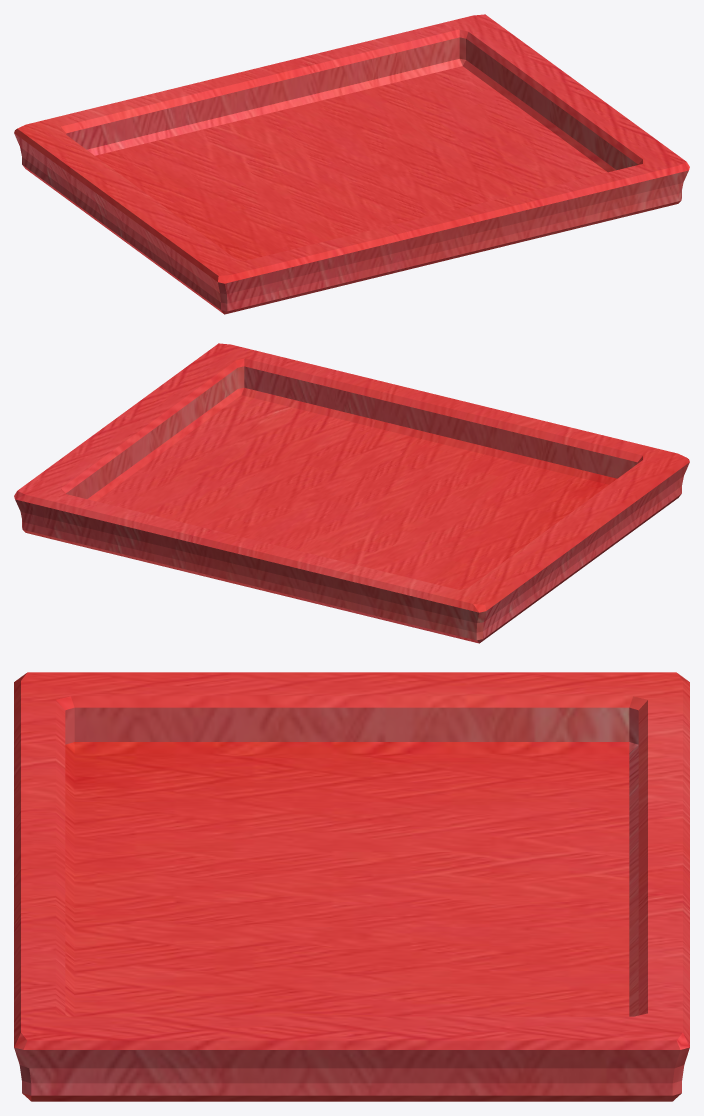
File: Tray.fbx
The picture shows the model from 3 angles, top to bottom: view 1: azimuth 30°, elevation 25°; view 2: azimuth 150°, elevation 25°; view 3: azimuth 270°, elevation 25°; orthographic projection. The views are drawn at different scales.
Parts seen in each view (by area): view 1: Tray; view 2: Tray; view 3: Tray.
Boxes of the visible parts, x1,y1,x2,y2 form: Tray: (14, 14, 689, 314); Tray: (14, 343, 689, 643); Tray: (14, 672, 689, 1101).
Size of the model in its own units: 79.21 by 6.6 by 60.92.
